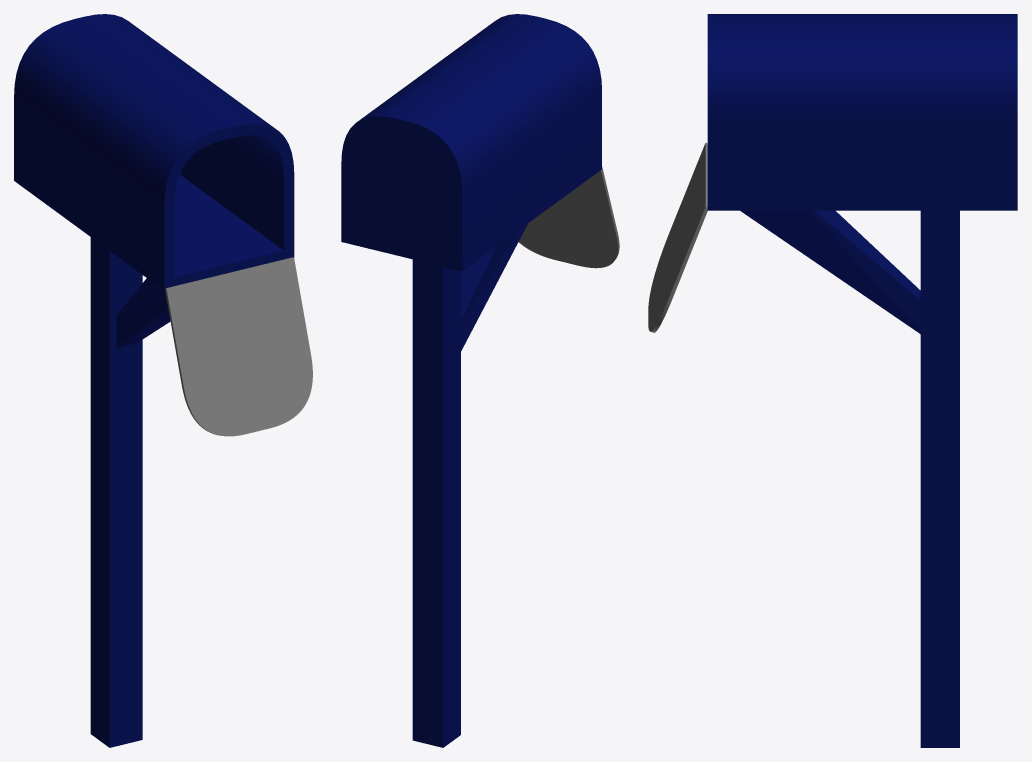
The model's file is postakutusu.fbx.
3 views of the same model, side by side, from view 1: azimuth 30°, elevation 25°; view 2: azimuth 150°, elevation 25°; view 3: azimuth 270°, elevation 25° (orthographic). The views are drawn at different scales.
Visible parts, largest first — view 1: Box001, Box002; view 2: Box001, Box002; view 3: Box001, Box002.
Boxes of the visible parts, x1=… form: Box001: x1=14, y1=14, x2=294, y2=747; Box002: x1=165, y1=257, x2=312, y2=436; Box001: x1=341, y1=14, x2=601, y2=747; Box002: x1=518, y1=166, x2=619, y2=268; Box001: x1=707, y1=14, x2=1017, y2=747; Box002: x1=648, y1=142, x2=707, y2=332.
Bounding box in the file's own units: 25 × 127 × 59.58.
